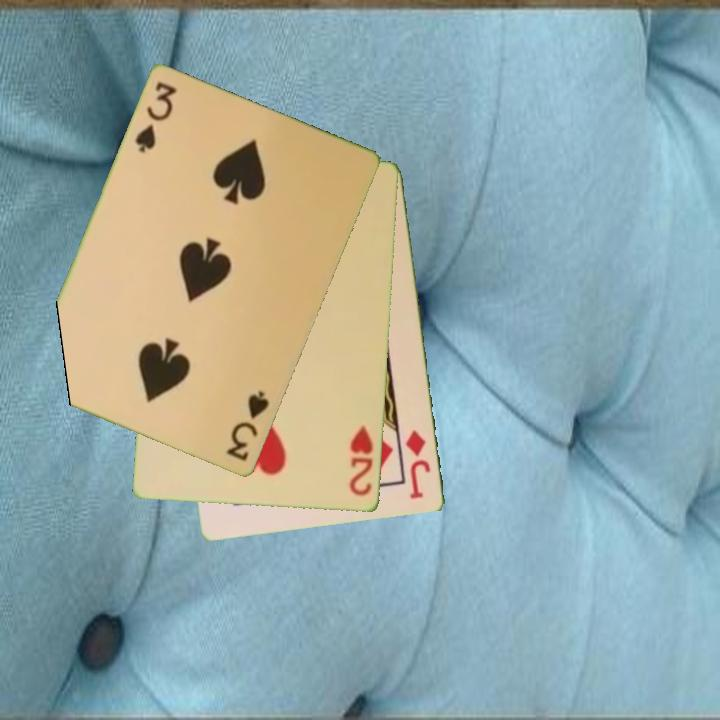2h: (346, 423, 377, 499)
3s: (223, 387, 273, 465), (131, 78, 181, 156)
Jd: (402, 427, 434, 502)
